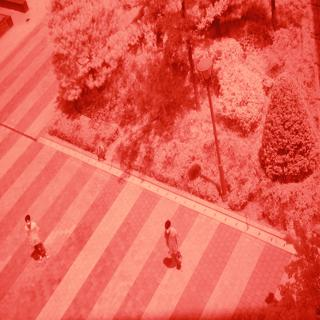person: (22, 211, 52, 266), (160, 217, 187, 273)
